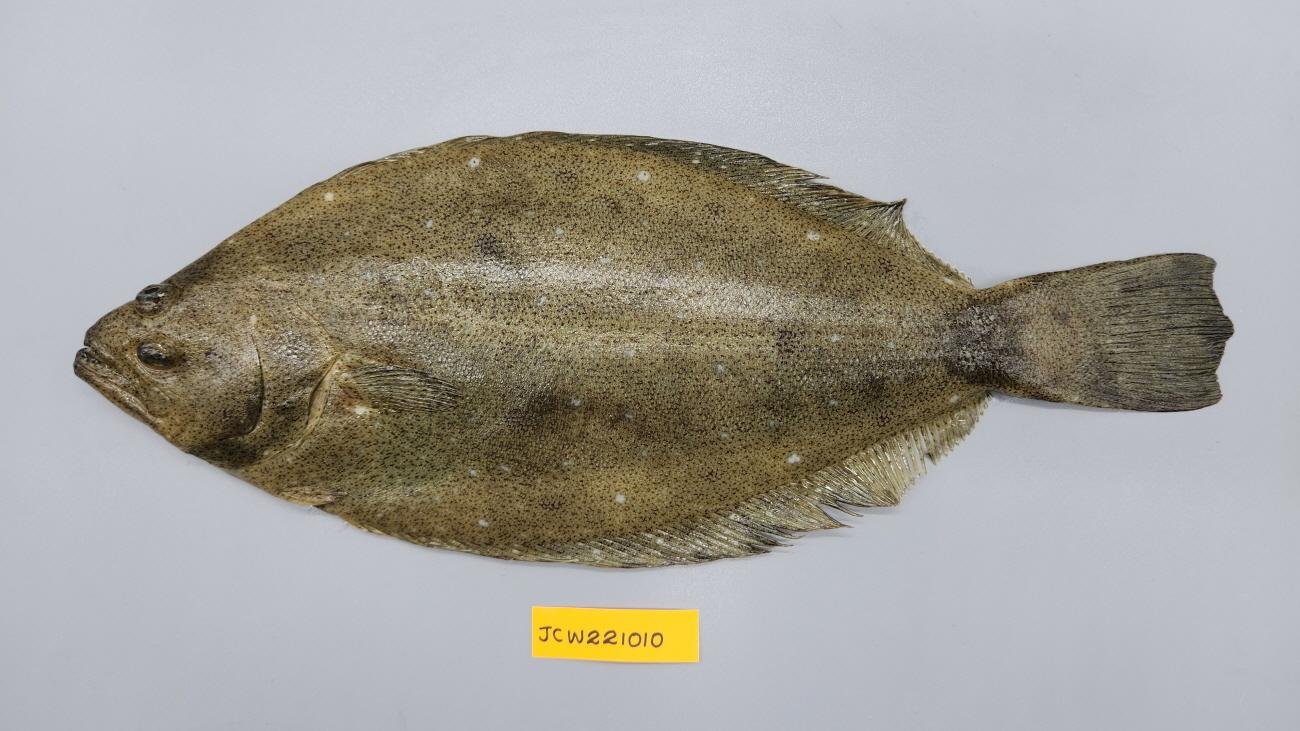POOUN: (73, 130, 1235, 570)
